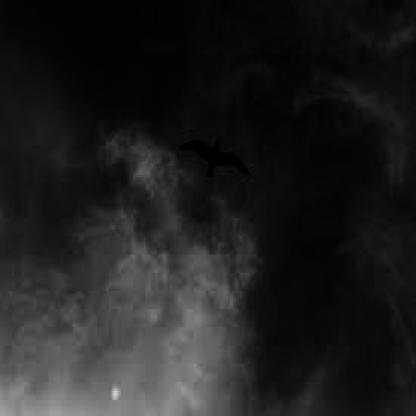bird: (104, 53, 306, 254)
